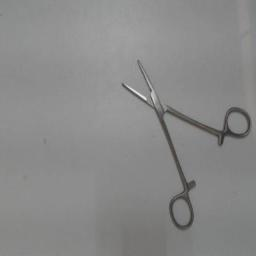Mayo Needle Holder: (116, 48, 254, 232)
